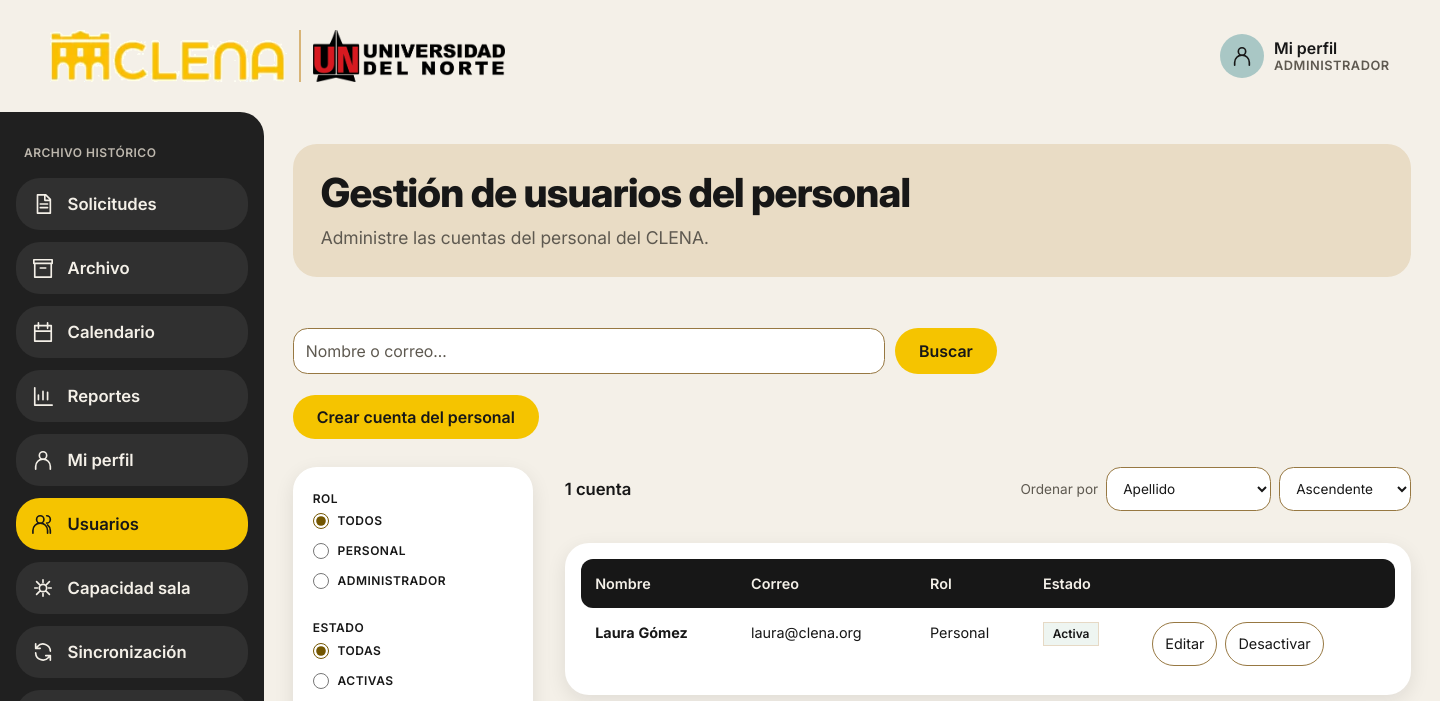
Test: StaffUsersPage (HU-05) › shows the field errors that the API returns
The image size is (1440, 701).
Expected: the table is shown, [565,543,1411,695]
Click the button "Crear cuenta del personal".
click(416, 417)  # box [293,395,539,439]
(page scrolled)
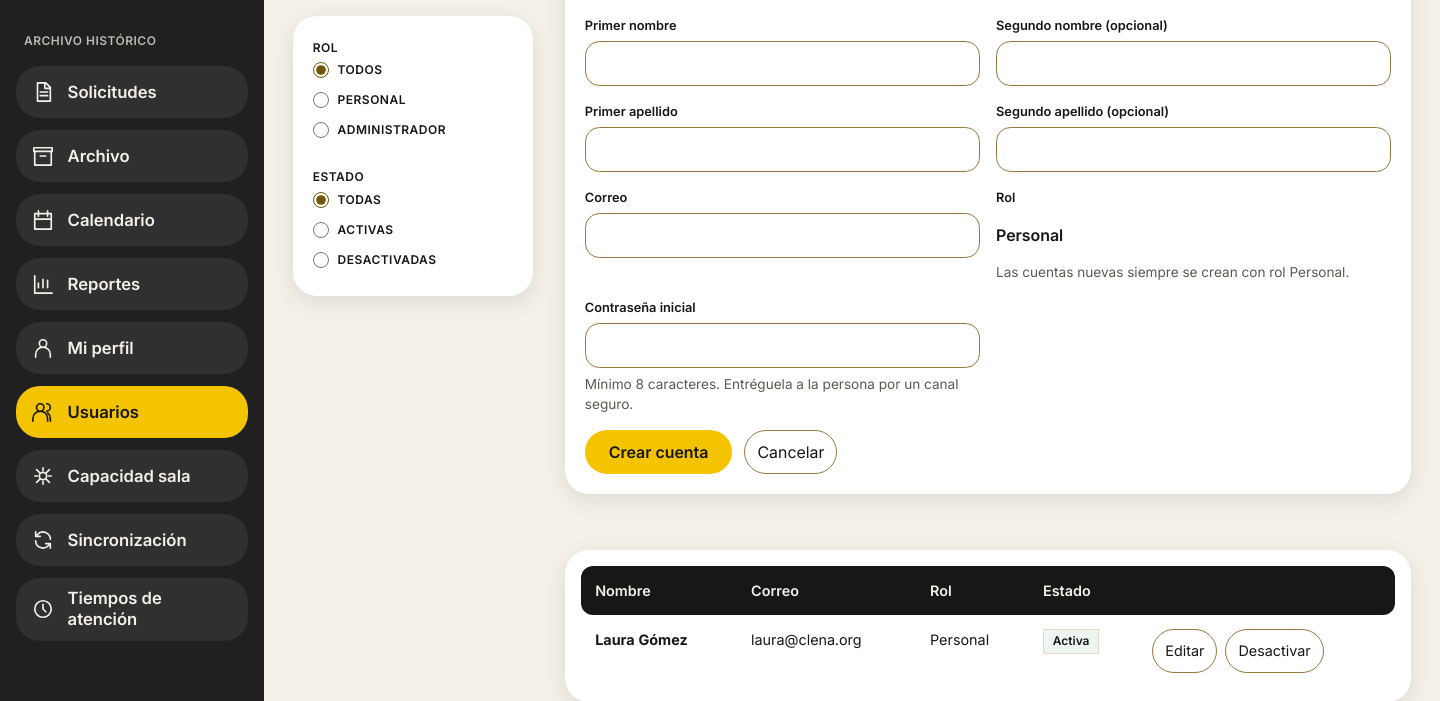
Click the button "Crear cuenta".
click(659, 452)  # box [585,430,732,474]
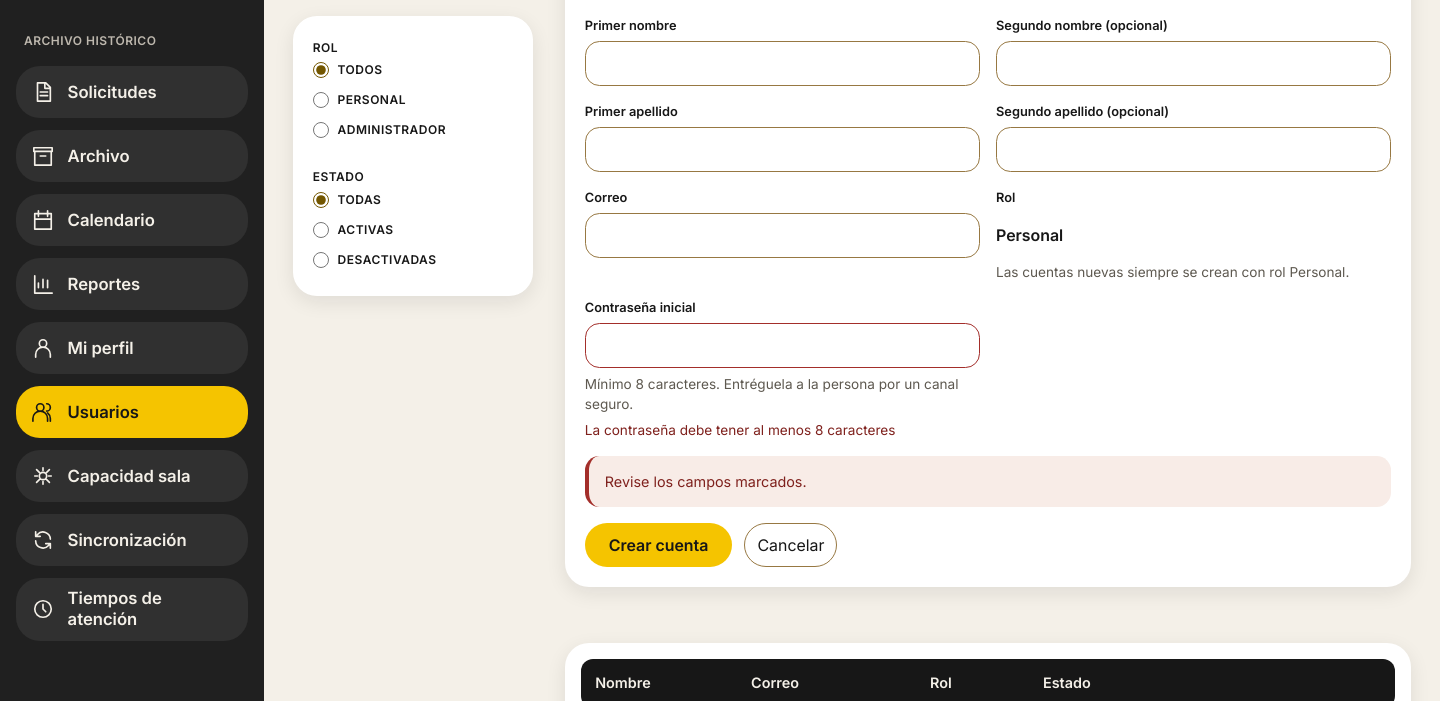
Expected: the text "La contraseña debe tener al menos 8 caracteres" is shown, [585,422,895,438]
Expected: the message reads "Revise los campos marcados.", [605,473,807,490]
